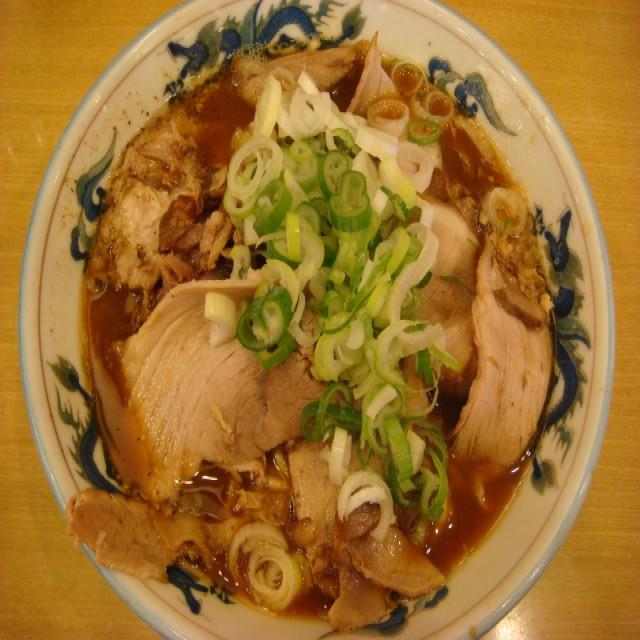面条主食: (62, 40, 556, 611)
